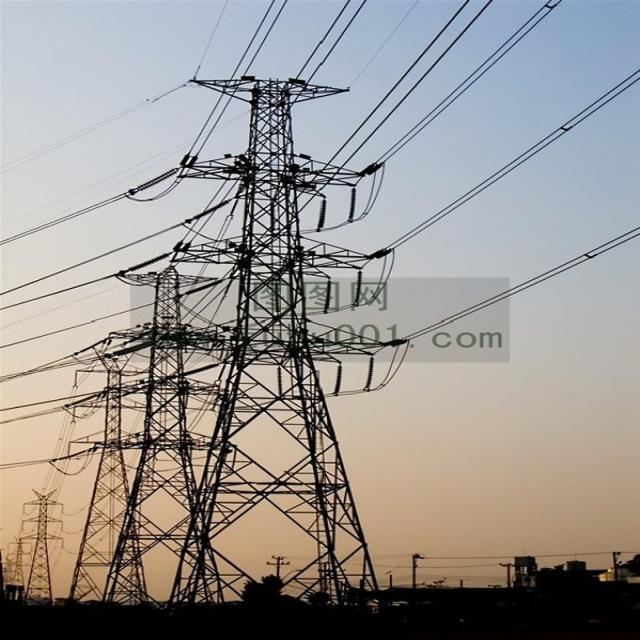non-critical vegetation: (198, 74, 390, 604), (110, 247, 230, 595), (70, 346, 155, 601), (19, 485, 74, 609)
